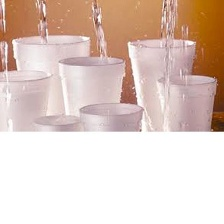paper_cup: (8, 30, 94, 120), (124, 33, 199, 132), (54, 52, 128, 121), (154, 70, 218, 131), (0, 67, 55, 131), (76, 99, 148, 131), (27, 110, 84, 131)
